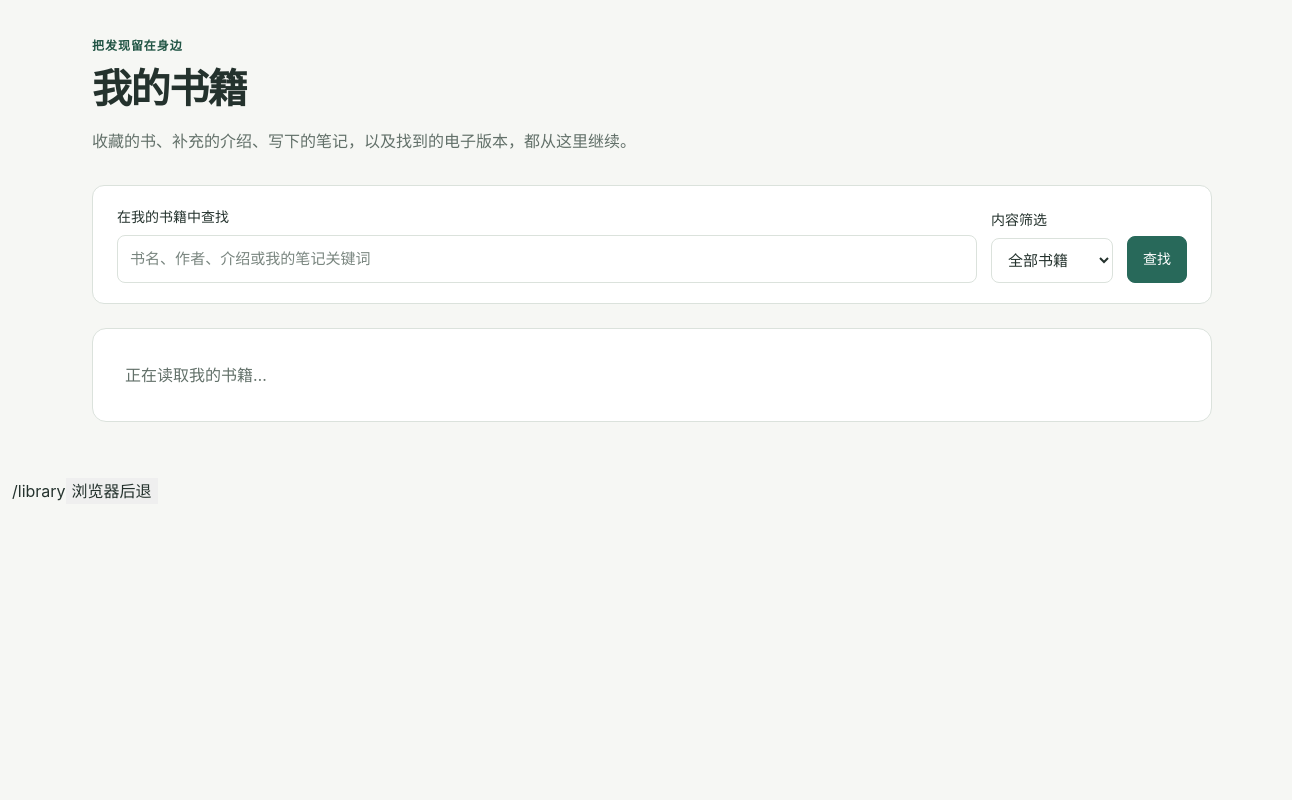
it: my books collection › hides stale results as soon as a filter changes and ignores the old result
Select "有笔记" in the dropdown labelled "内容筛选" at (1052, 260), box 991,238 -> 1113,283
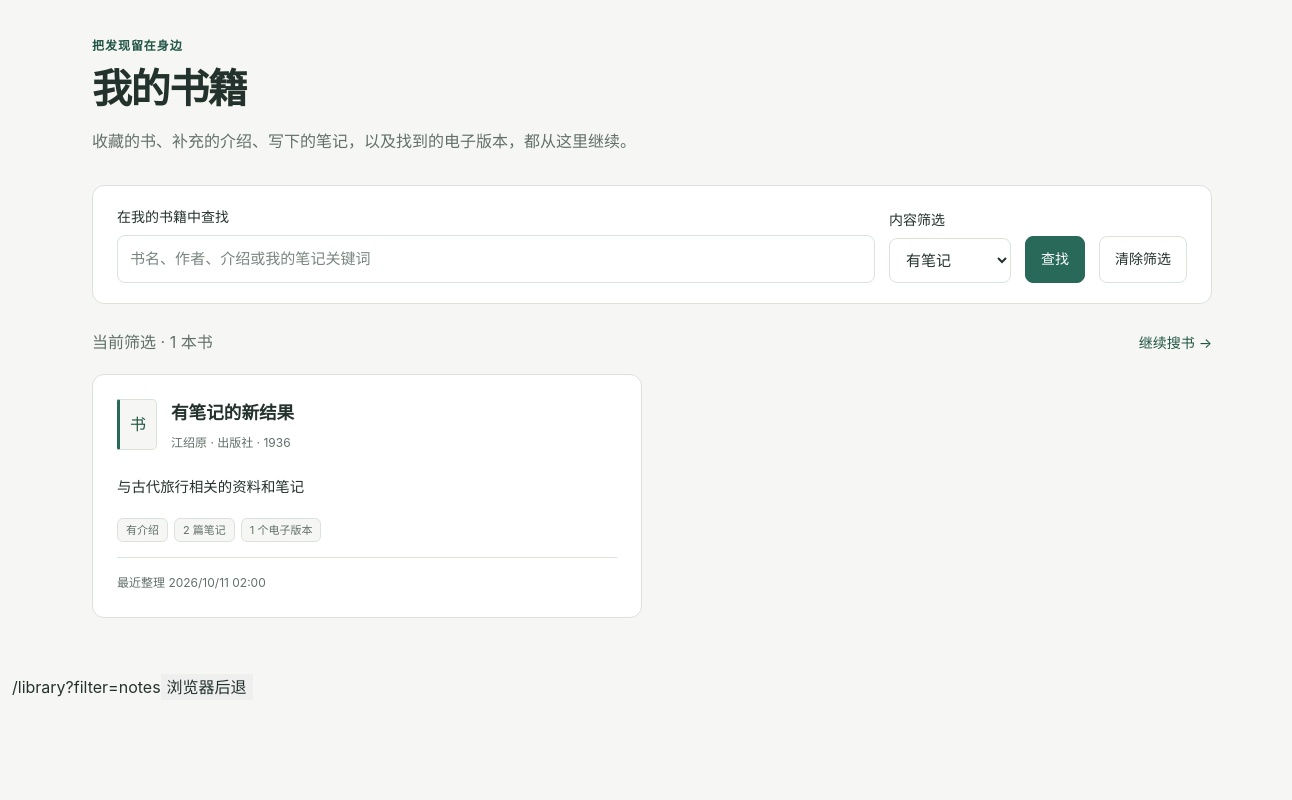
Expected: the link "有笔记的新结果" is shown, 171,402 -> 294,423
